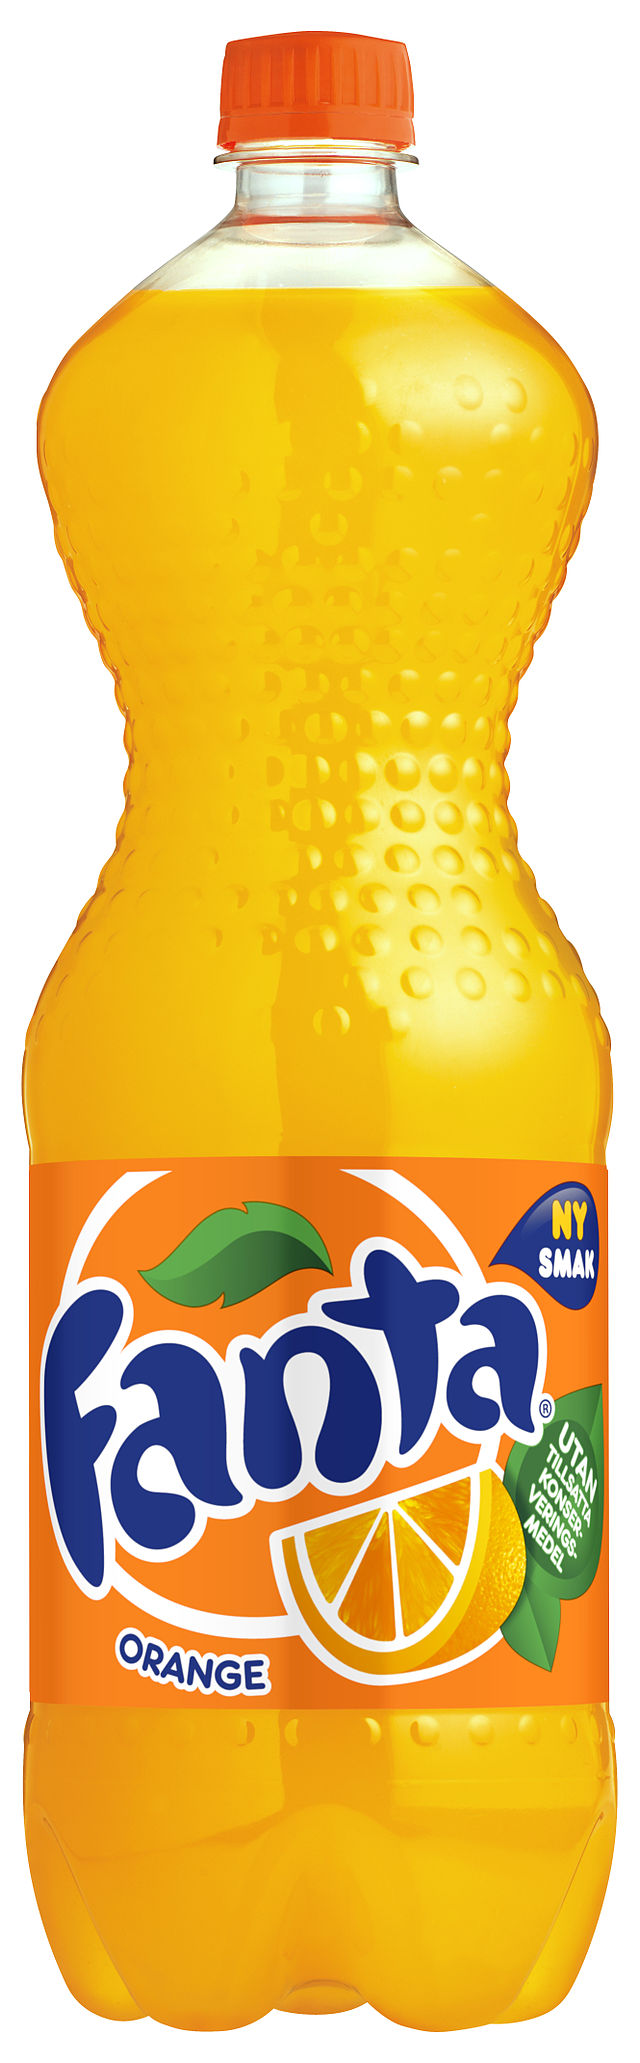Fanta: (47, 37, 618, 2010)
